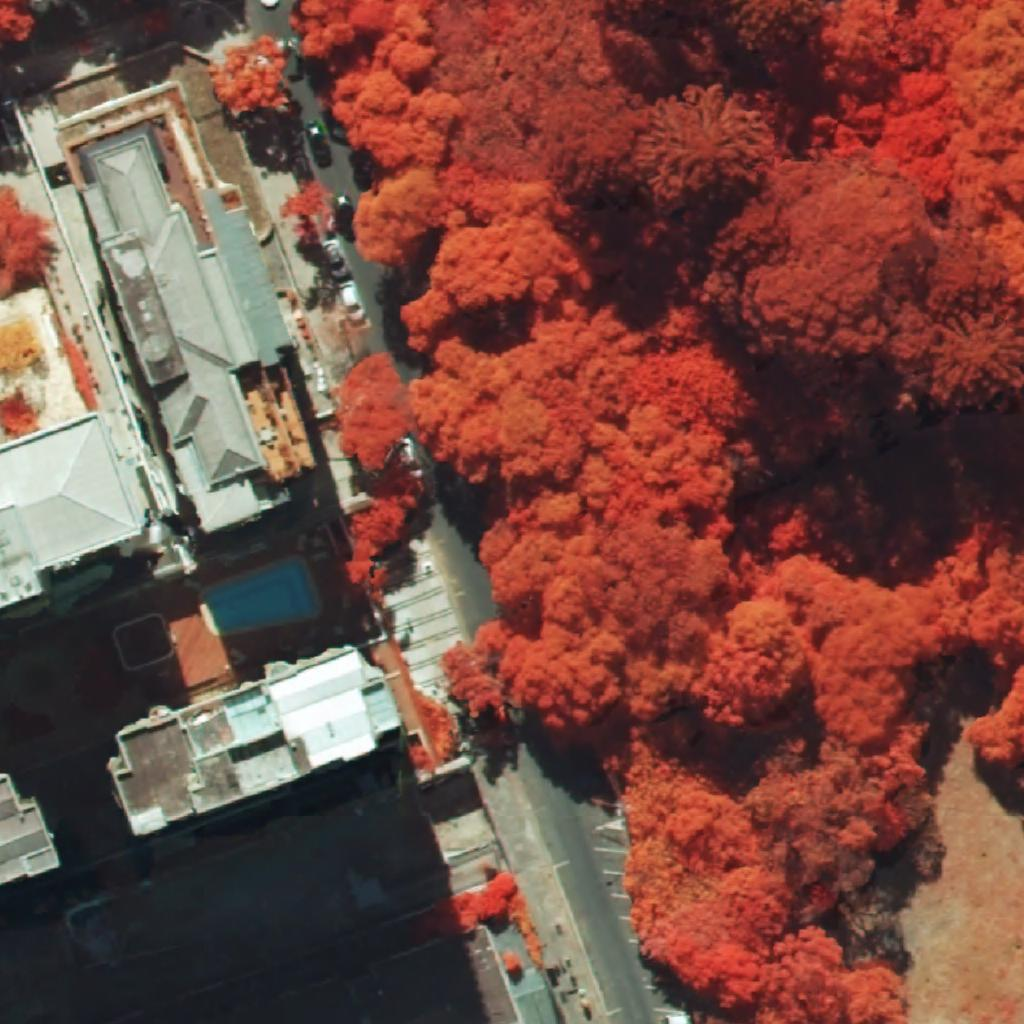pool: (203, 556, 317, 633)
